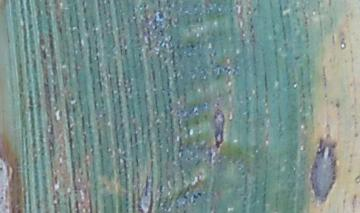tarspot: (309, 132, 339, 207), (211, 101, 224, 152)
